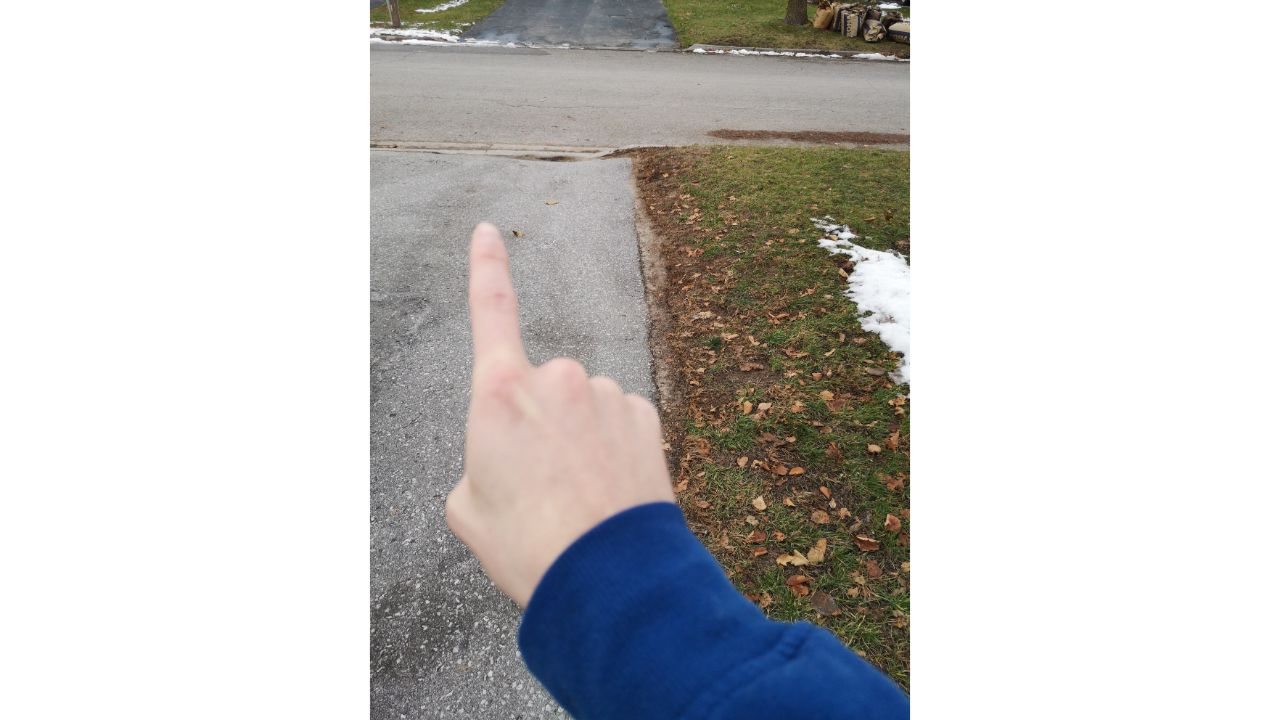finger: (439, 212, 714, 587)
